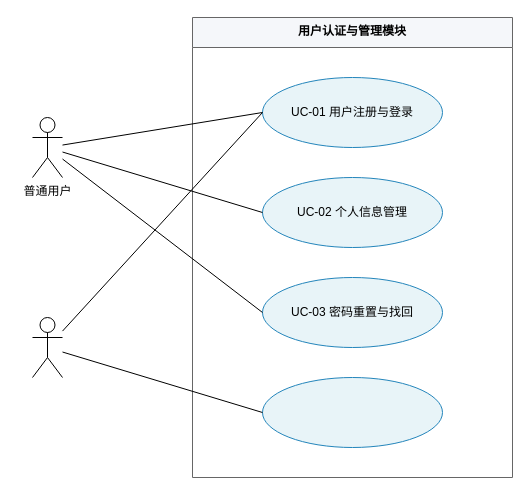
Image size: 530x495. Some labels were removed from this diagram. The shapes that lost their labels are listed below. From the top down, each one's box as (x1, y1, x2, y2) in pixels, then its label:
(32, 316, 62, 378): 系统管理员
(262, 376, 442, 448): UC-04 用户账号权限管理
